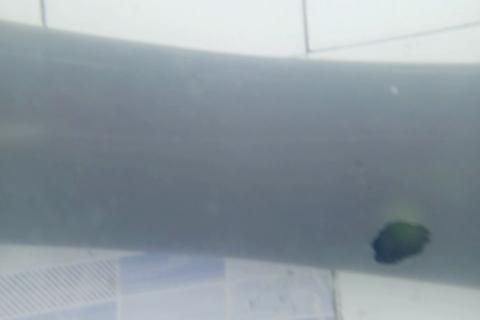kebocoran: (370, 217, 433, 266)
